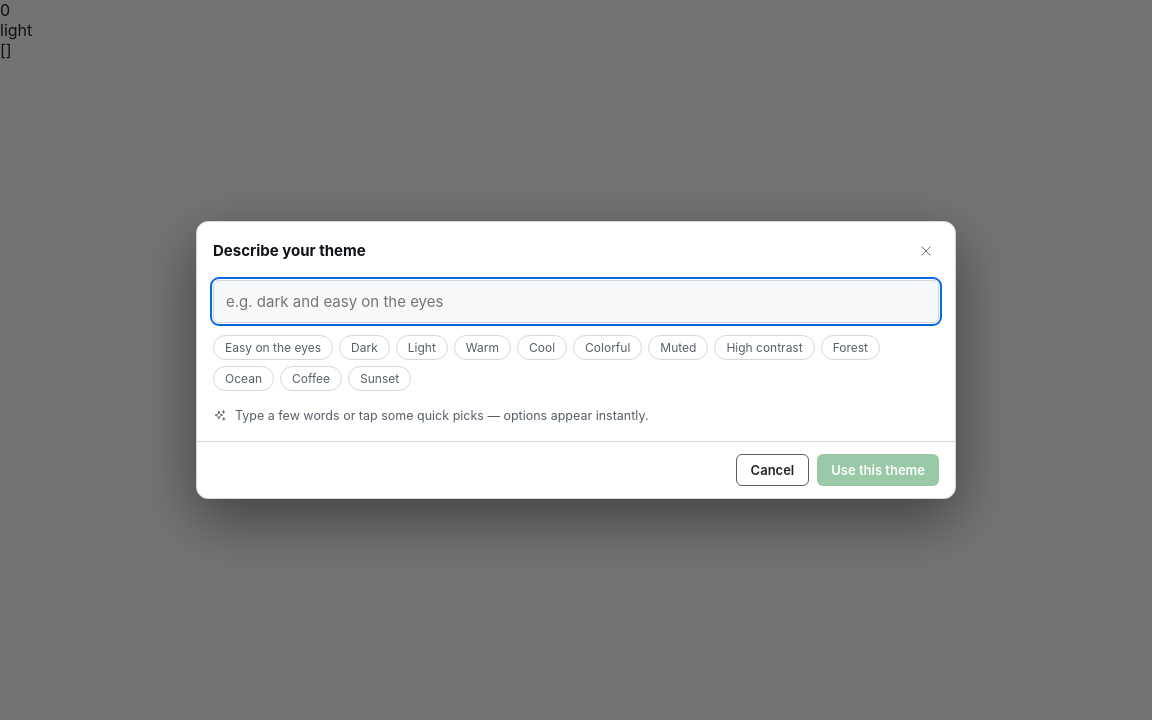
Scenario: DescribeThemeDialog › shows three options as you type, with no Generate step, and applies the chosen one
Check: the button "Use this theme" is disabled, box top-left (817, 454), bottom-right (939, 486)
Type "dark theme, low stress on eyes" into the field named "Describe the theme you want". click: (576, 301)
box: top-left (213, 280), bottom-right (939, 323)
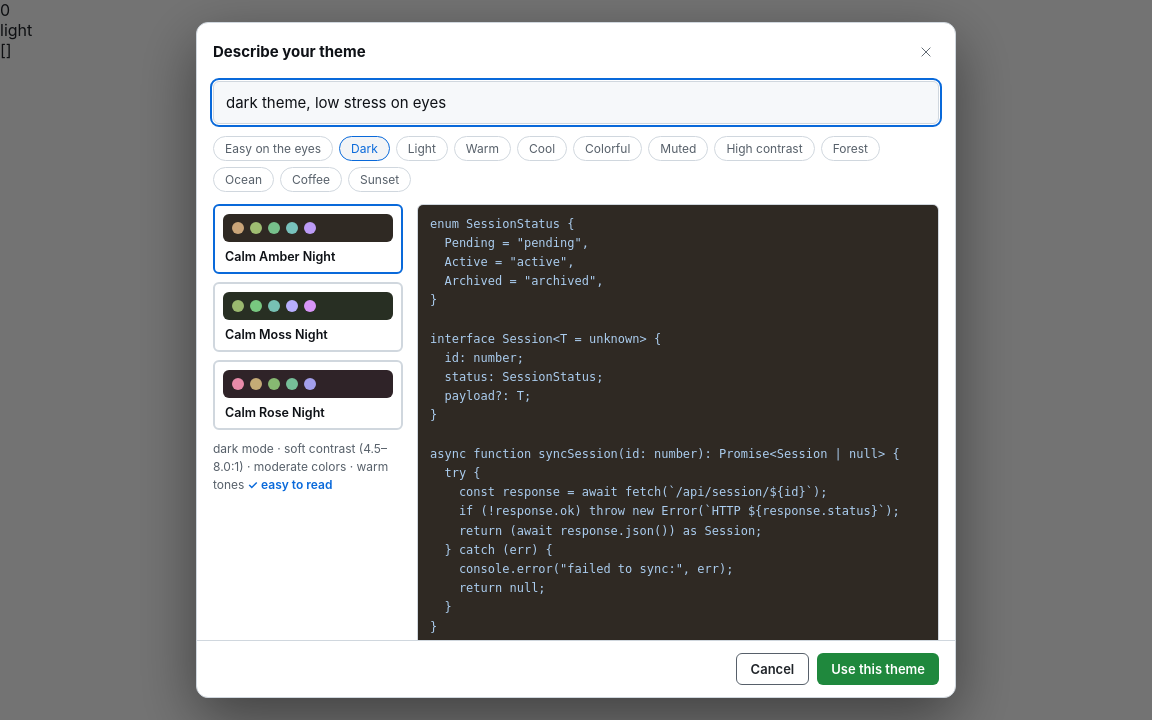
Check: the radio button labelled "Calm Amber Night" is checked, box top-left (213, 204), bottom-right (403, 274)
Check: the text "dark mode" is shown, box top-left (213, 441), bottom-right (388, 492)
Check: the text "✓ easy to read" is shown, box top-left (244, 477), bottom-right (332, 492)
Click the button "Use this theme". click: click(878, 669)
box: top-left (817, 653), bottom-right (939, 685)
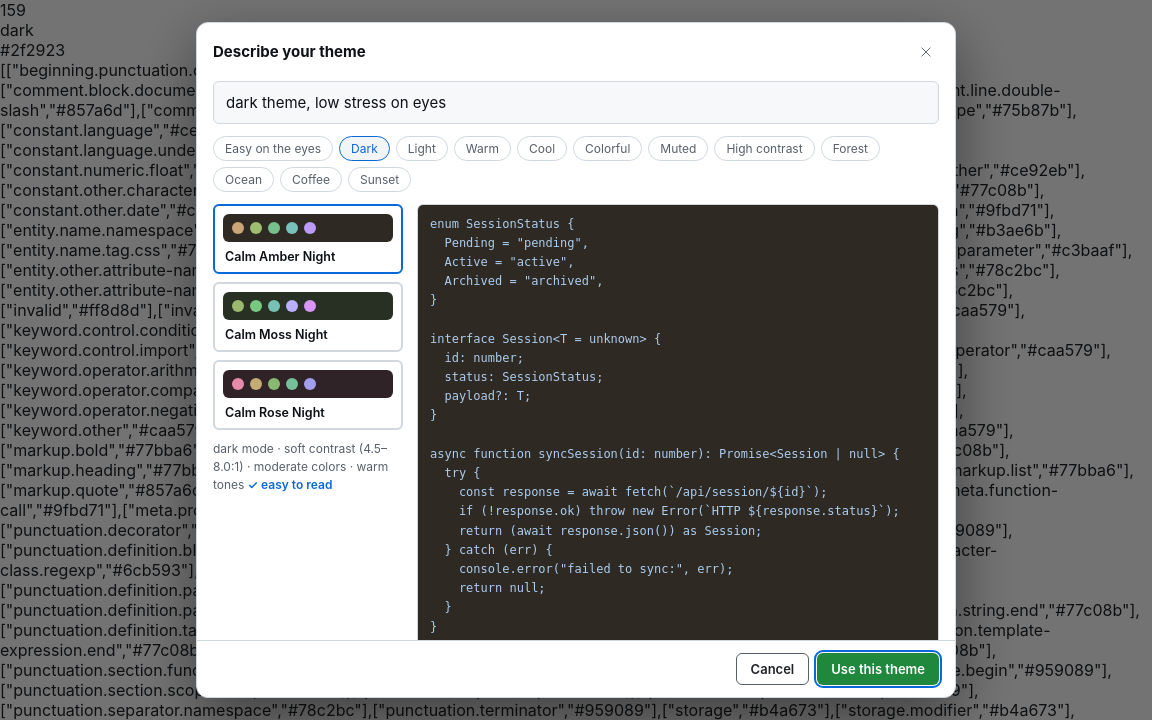
Check: the text with test id "bg" reads "#2f2923", box top-left (0, 40), bottom-right (65, 60)
